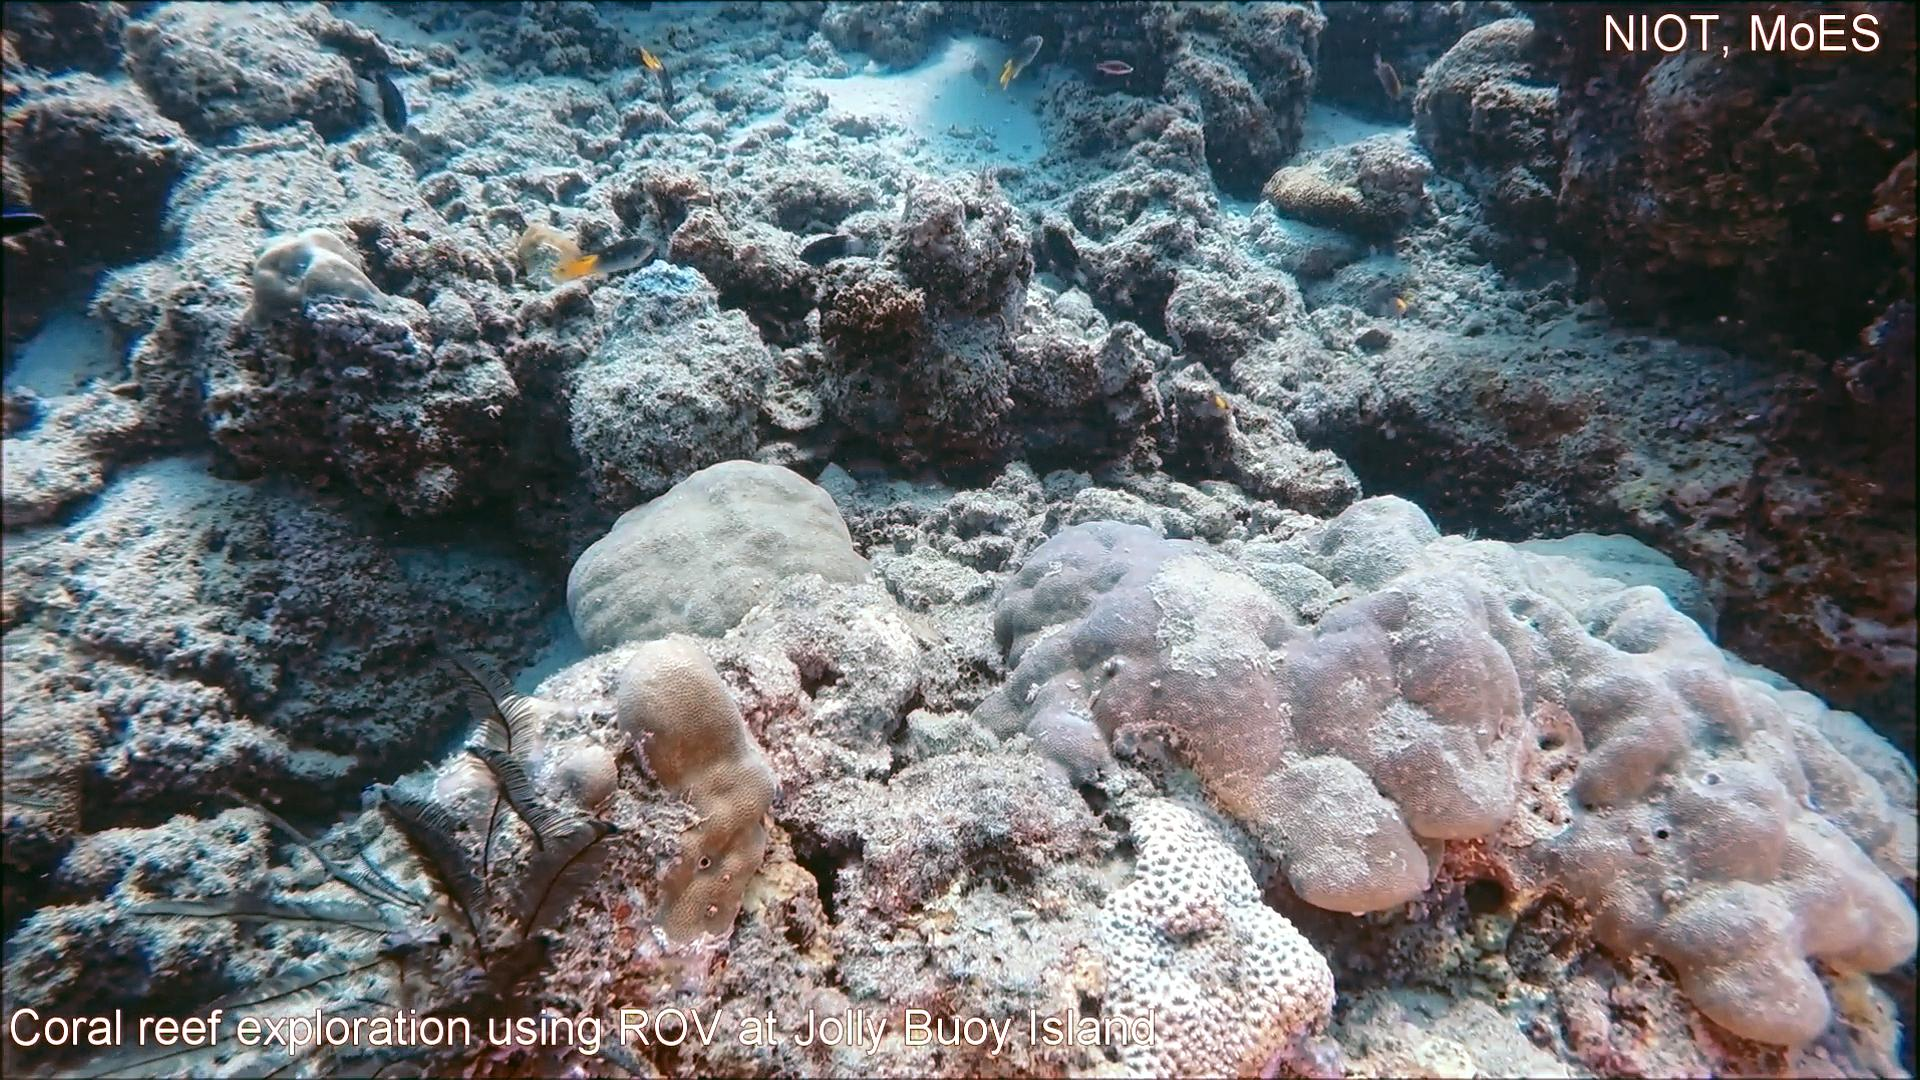Feather star-Crinoid star: (116, 641, 629, 1080)
Goniastrea-Goniastrea pectinata: (1072, 790, 1348, 1080)
Porites-Porites pukoensis: (1393, 480, 1920, 1063)
Turbinaria-Turbinaria stellulata: (0, 715, 104, 849)
